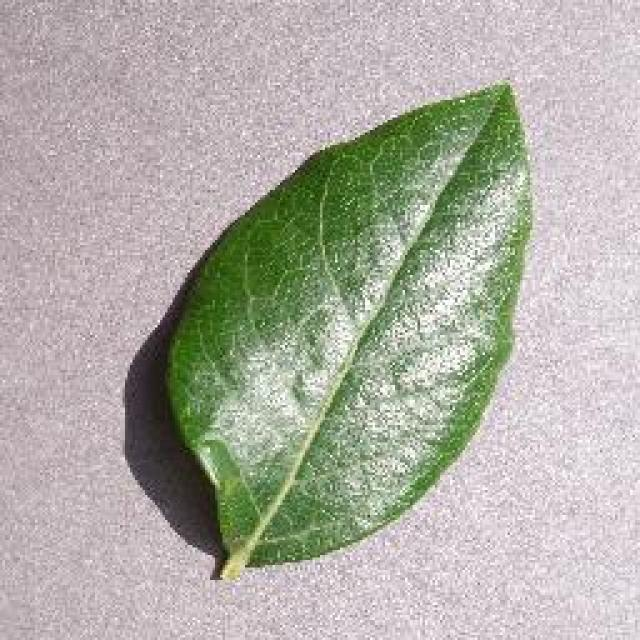Blu_healthy: (231, 184, 490, 468)
